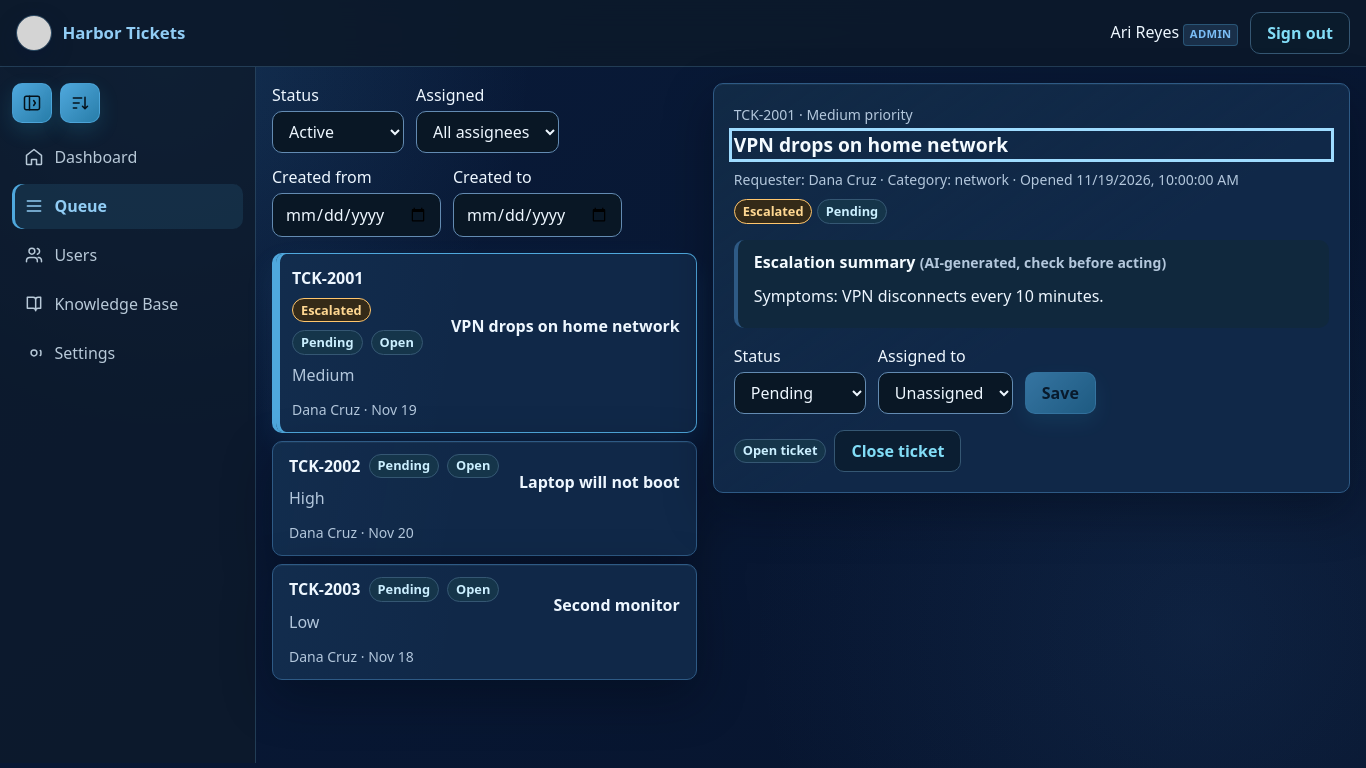
Scenario: admin queue and ticket detail (S3-06) › saves status and assignment and shows the persisted result
Expected: the text "(AI-generated, check before acting)" is shown, 920,253 -> 1166,272
Select "In progress" in the dropdown labelled "Status" below "Assigned to": (800, 393) 734,372 -> 866,414
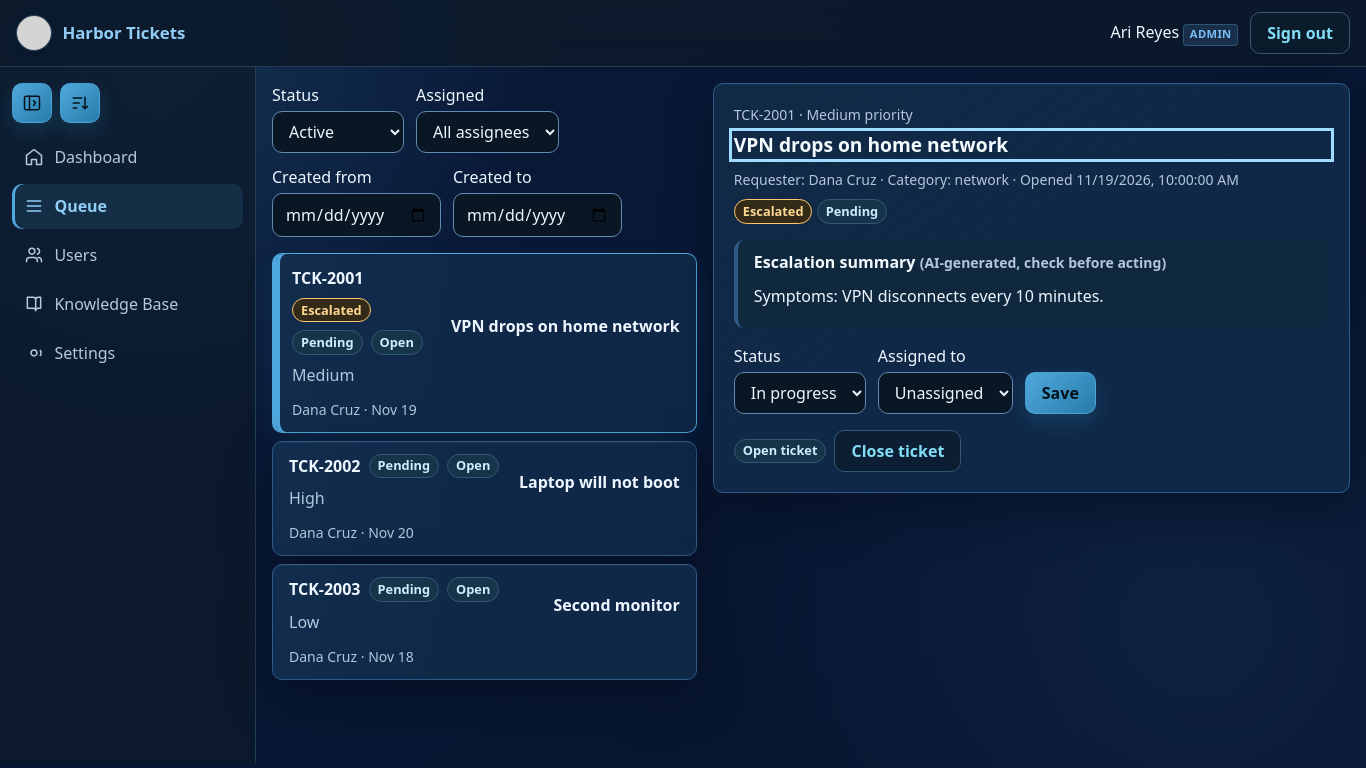
Select "Lee Santos" in the dropdown labelled "Assigned to": (945, 393) 878,372 -> 1013,414
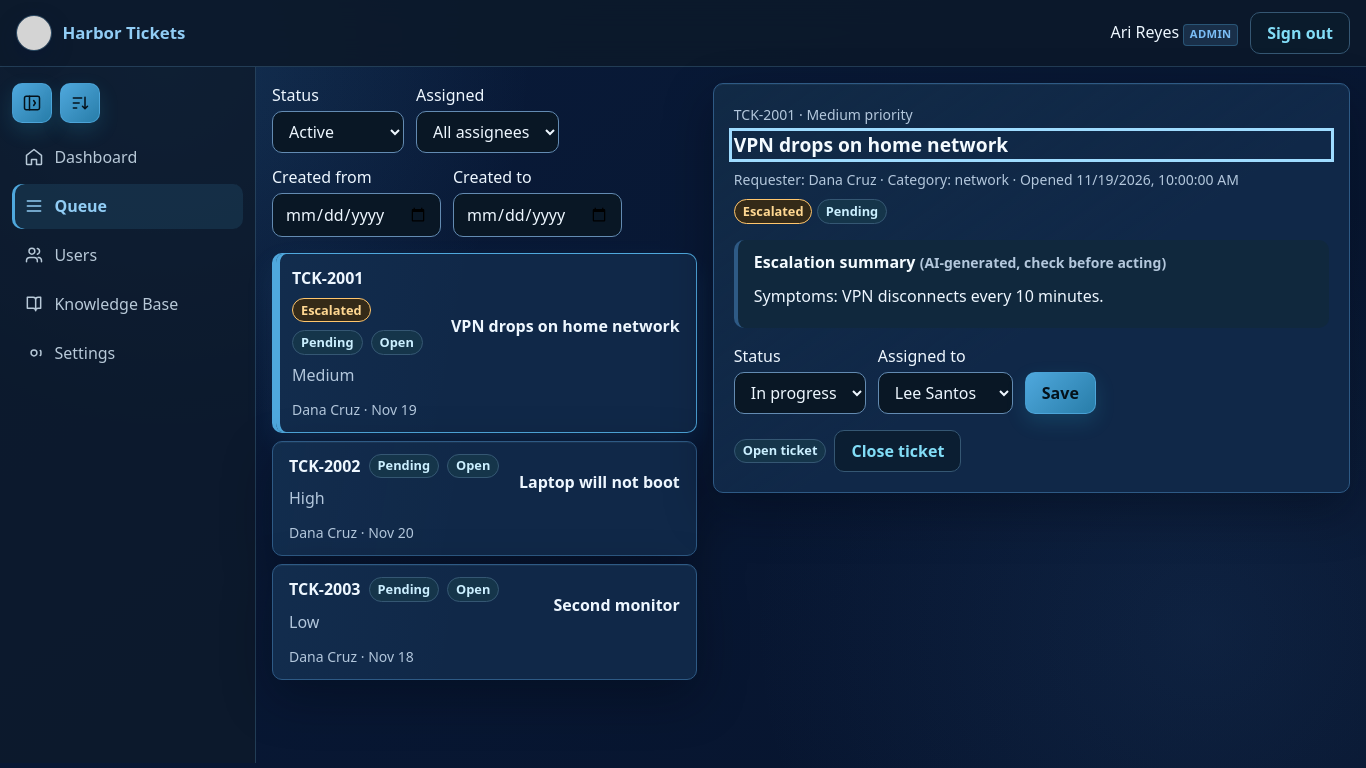
Click the button "Save": (1060, 393) 1025,372 -> 1096,414
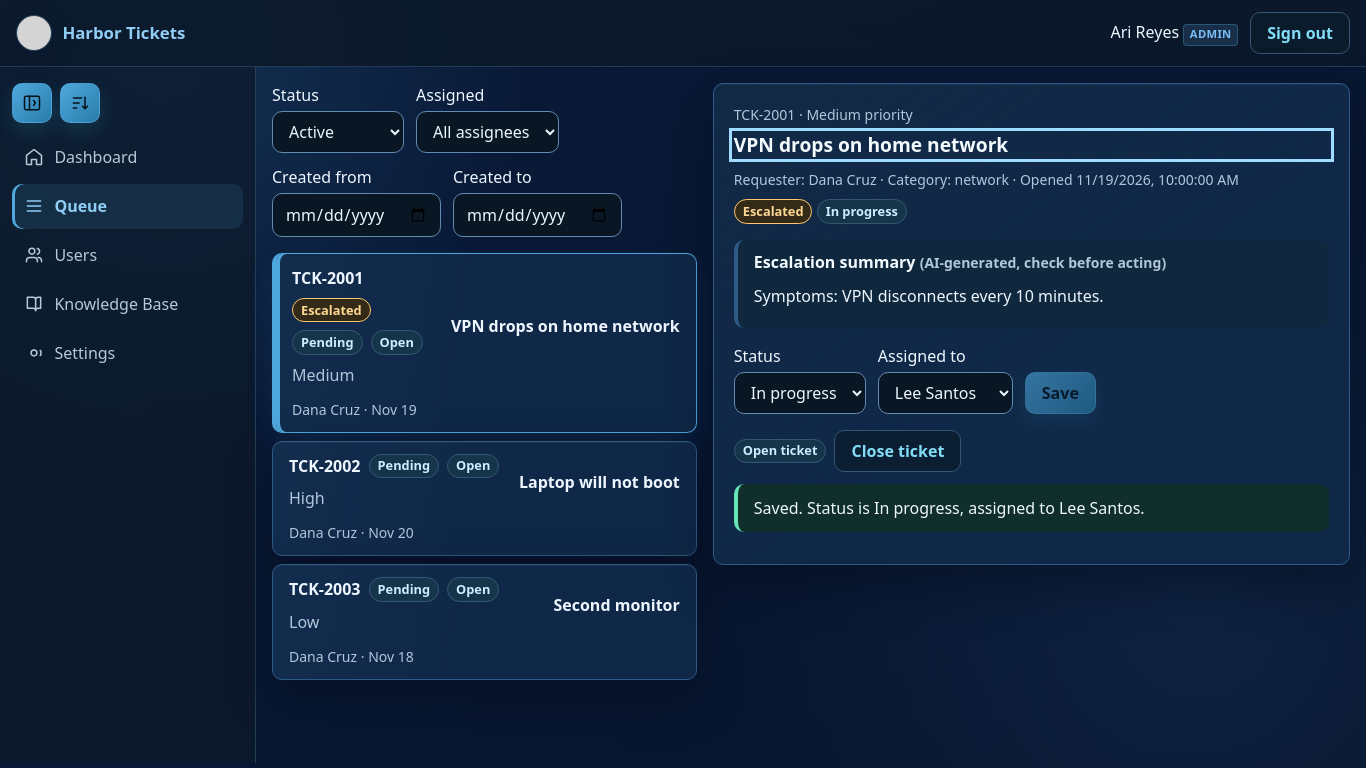
Now the text "Saved. Status is In progress, assigned to Lee Santos." is shown, box 734,484 -> 1329,532
